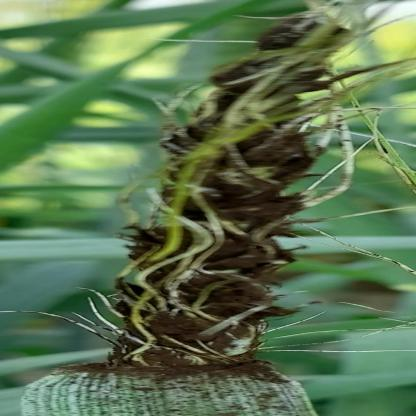Wheat Smut: (122, 314, 256, 330), (113, 331, 255, 346), (112, 348, 249, 363), (123, 287, 264, 301), (137, 251, 285, 263), (136, 236, 270, 248), (124, 274, 267, 285), (169, 206, 281, 219), (140, 225, 278, 234), (153, 264, 264, 275), (120, 304, 259, 312), (162, 196, 296, 204), (192, 186, 266, 196), (165, 130, 195, 148), (236, 174, 296, 183), (244, 146, 302, 154), (187, 174, 229, 184), (258, 135, 300, 144), (282, 156, 305, 172), (262, 30, 298, 40), (275, 19, 307, 30), (244, 156, 278, 165), (213, 89, 234, 99), (260, 41, 286, 48), (224, 66, 255, 71), (168, 125, 196, 129), (215, 74, 237, 79), (205, 117, 215, 124), (269, 310, 286, 314)
